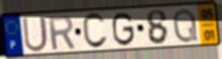8: (145, 9, 170, 46)
C: (81, 11, 110, 51)
G: (111, 10, 137, 47)
Q: (172, 7, 200, 45)
R: (46, 15, 77, 52)
U: (21, 14, 50, 54)
